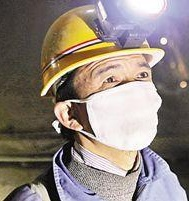hard-hat: (37, 1, 165, 96)
